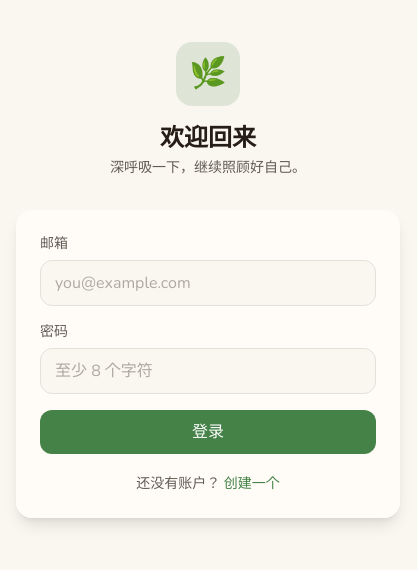
Test case: LoginPage › shows error on failed login
Type "test@example.com" into the field at point(208, 283), box [40,260,376,306]
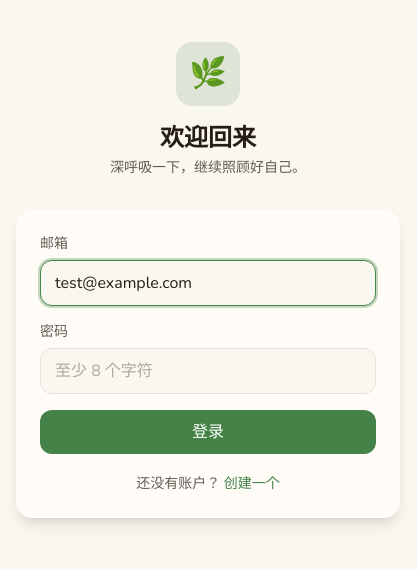
Type "wrongpass" into the password field with placeholder "至少 8 个字符" at point(208, 371), box [40,348,376,394]
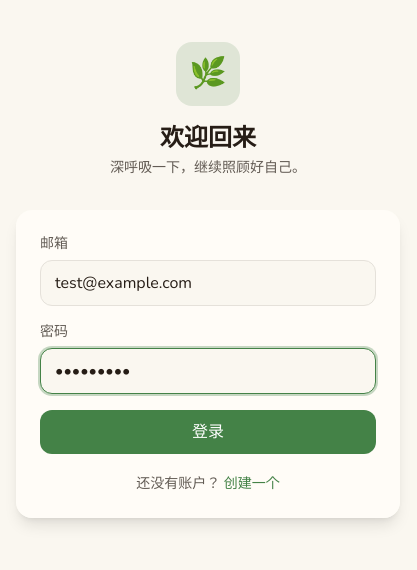
Click the button "登录" at point(208, 432), box [40,410,376,454]
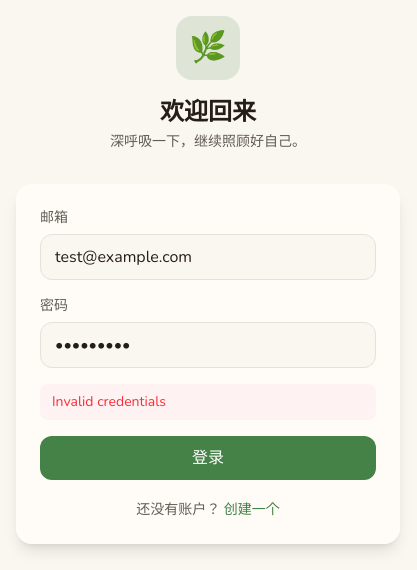
Check: the text "Invalid credentials" is shown, box [40,384,376,420]
